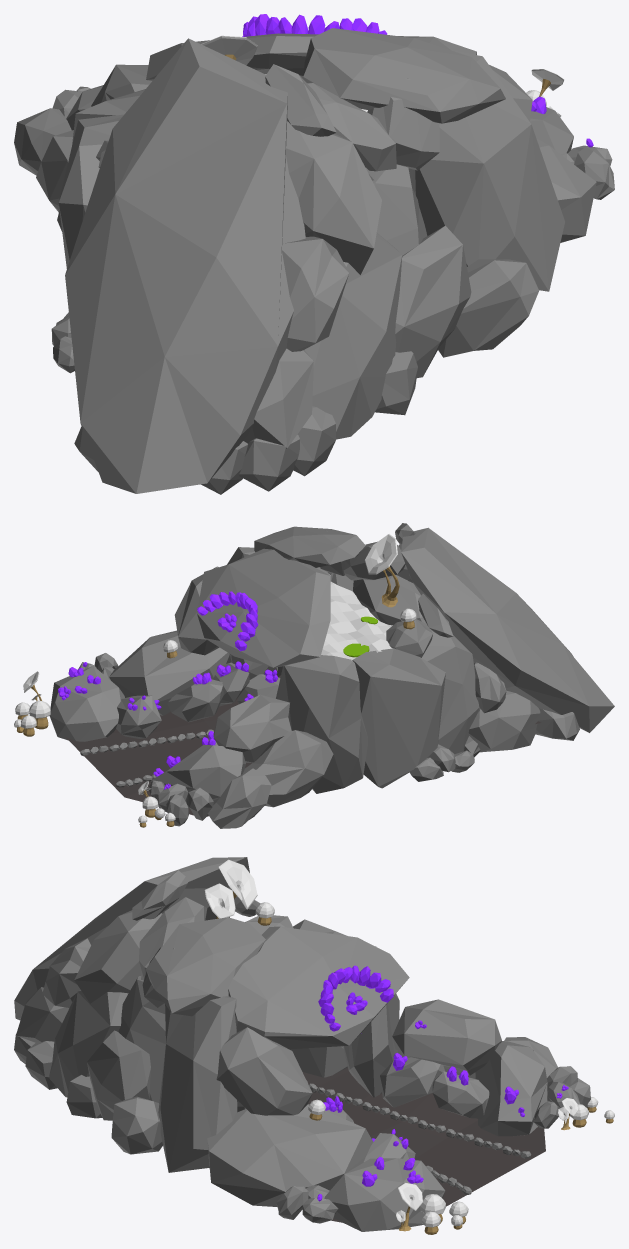
File: mineWATER.fbx
The picture shows the model from 3 angles, top to bottom: view 1: azimuth 30°, elevation 25°; view 2: azimuth 150°, elevation 25°; view 3: azimuth 270°, elevation 25°; orthographic projection. The views are drawn at different scales.
Parts seen in each view (by area): view 1: rock.019, rock.006, rock.028, rock.008, rock.020, rock.023, rock.043, rock.033, rock.032, rock.010, rock.013, rock.003 (+16 smaller); view 2: rock.019, rock.036, rock.010, rock.037, Plane, rock.016, rock.047, rock.009, rock.004, rock.018, rock.028, rock.024 (+21 smaller); view 3: rock.036, rock.016, rock.006, Plane, rock.028, rock.046, rock.018, rock.047, rock.002, rock.019, rock.008, rock.020 (+21 smaller).
Part boxes in pixels (left/top/right/bottom): rock.019: left=65, top=38, right=305, bottom=493; rock.006: left=408, top=51, right=564, bottom=291; rock.028: left=303, top=28, right=505, bottom=123; rock.008: left=304, top=232, right=402, bottom=439; rock.020: left=286, top=127, right=381, bottom=274; rock.023: left=395, top=225, right=471, bottom=377; rock.043: left=438, top=259, right=539, bottom=357; rock.033: left=282, top=236, right=349, bottom=351; rock.032: left=243, top=348, right=313, bottom=448; rock.010: left=58, top=114, right=123, bottom=268; rock.013: left=372, top=164, right=427, bottom=255; rock.003: left=307, top=83, right=396, bottom=171; rock.019: left=401, top=527, right=614, bottom=732; rock.036: left=197, top=548, right=330, bottom=667; rock.010: left=352, top=648, right=445, bottom=788; rock.037: left=276, top=655, right=367, bottom=793; Plane: left=65, top=675, right=541, bottom=816; rock.016: left=109, top=630, right=229, bottom=715; rock.047: left=49, top=666, right=124, bottom=741; rock.009: left=422, top=631, right=479, bottom=754; rock.004: left=243, top=730, right=333, bottom=807; rock.018: left=213, top=694, right=291, bottom=762; rock.028: left=254, top=526, right=365, bottom=567; rock.024: left=468, top=690, right=540, bottom=752; rock.036: left=228, top=926, right=409, bottom=1049; rock.016: left=207, top=1104, right=373, bottom=1206; rock.006: left=158, top=996, right=237, bottom=1172; Plane: left=302, top=1067, right=545, bottom=1222; rock.028: left=146, top=917, right=265, bottom=1016; rock.046: left=216, top=1027, right=312, bottom=1115; rock.018: left=392, top=999, right=501, bottom=1075; rock.047: left=324, top=1158, right=445, bottom=1231; rock.002: left=475, top=1041, right=547, bottom=1136; rock.019: left=14, top=857, right=249, bottom=1020; rock.008: left=49, top=990, right=128, bottom=1097; rock.020: left=74, top=910, right=162, bottom=1003.
Size of the model in its own units: 877 by 417 by 917.
